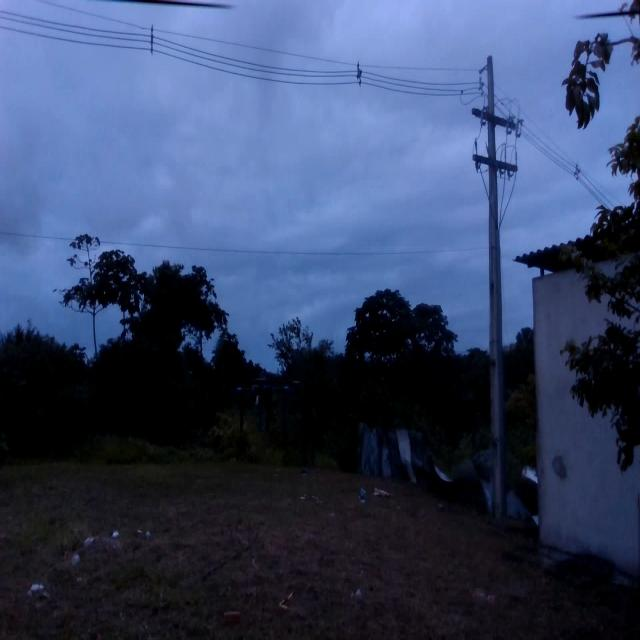-uav-: (233, 376, 300, 444)
